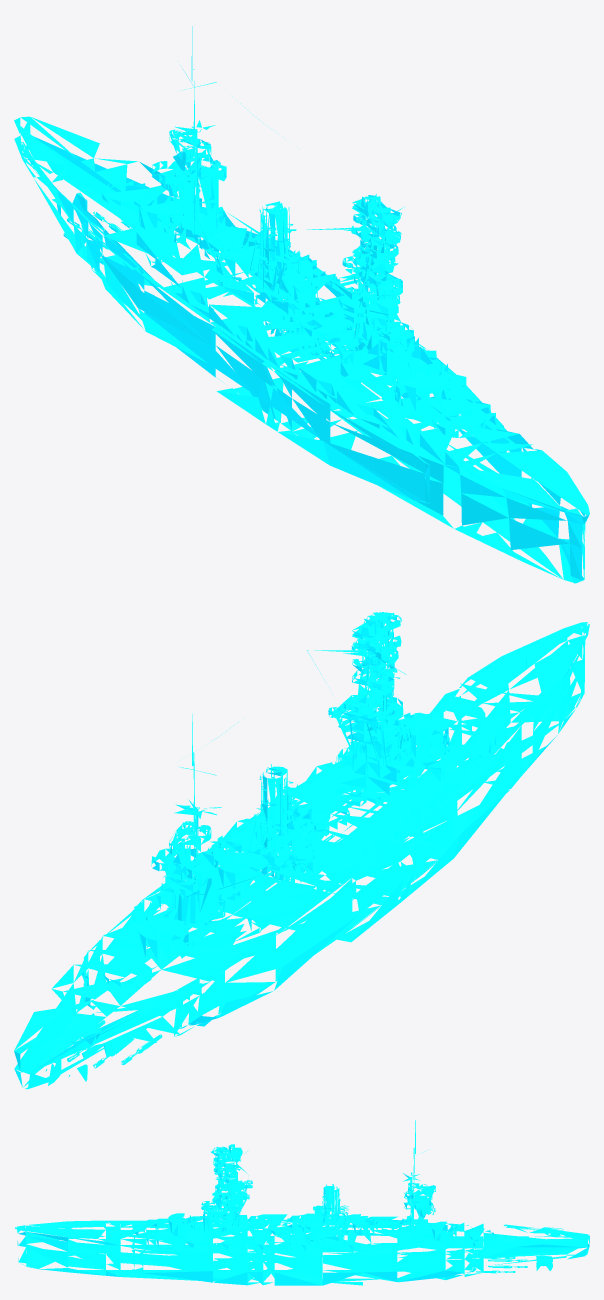
File: Fuso.glb
The picture shows the model from 3 angles, top to bottom: view 1: azimuth 30°, elevation 25°; view 2: azimuth 150°, elevation 25°; view 3: azimuth 270°, elevation 25°; orthographic projection. The views are drawn at different scales.
Bounding box in the file's own units: 2.19 × 4.08 × 14.17.
